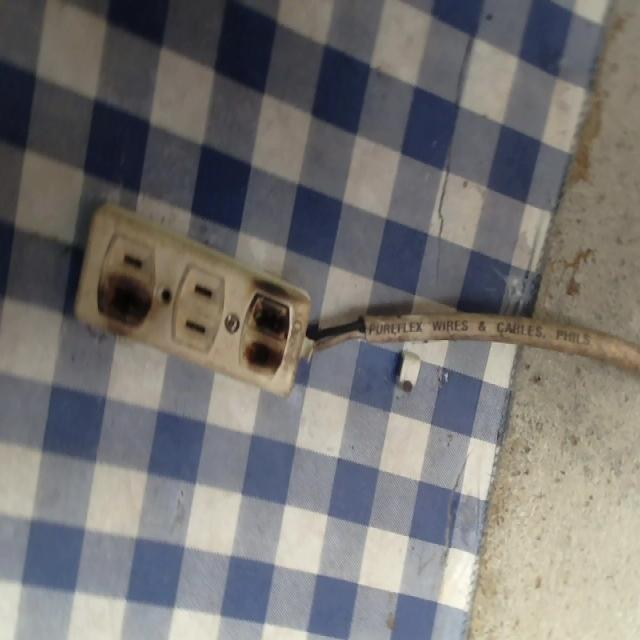-: (239, 276, 297, 387), (96, 270, 151, 334)
